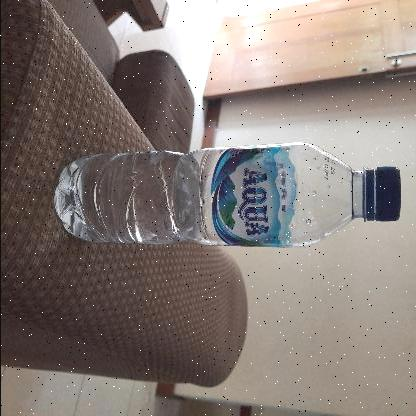Plastic Bottle: (49, 143, 403, 253)
